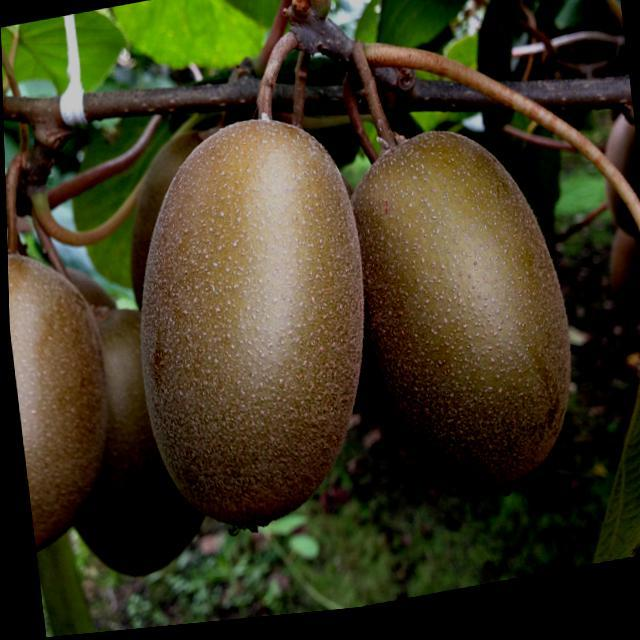kiwi: (111, 100, 390, 556), (330, 116, 585, 526), (43, 286, 225, 594), (7, 231, 125, 556)
